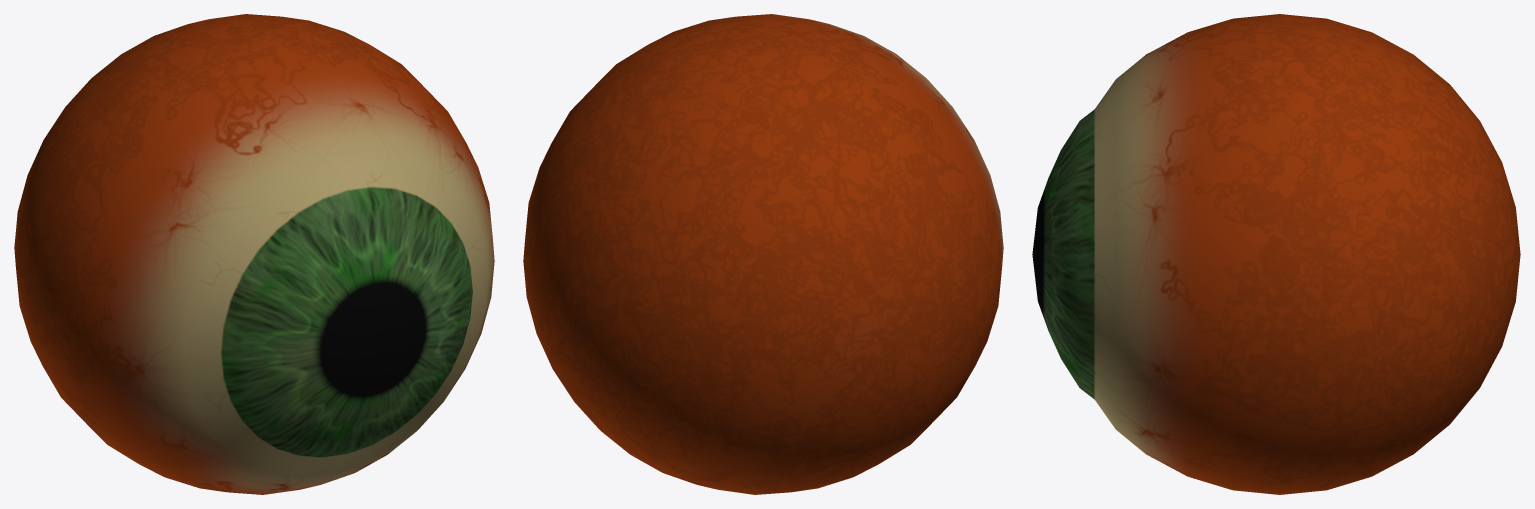
3 renders of one model, left to right at view 1: azimuth 30°, elevation 25°; view 2: azimuth 150°, elevation 25°; view 3: azimuth 270°, elevation 25°, orthographic.
Visible parts, largest first — view 1: Eye; view 2: Eye; view 3: Eye.
Boxes of the visible parts, box(x1,y1,x2,y2) form: Eye: box(14, 14, 494, 494); Eye: box(523, 14, 1003, 494); Eye: box(1032, 14, 1520, 494).
Size of the model in its own units: 200 by 200 by 203.
1 material, 1 textured.
